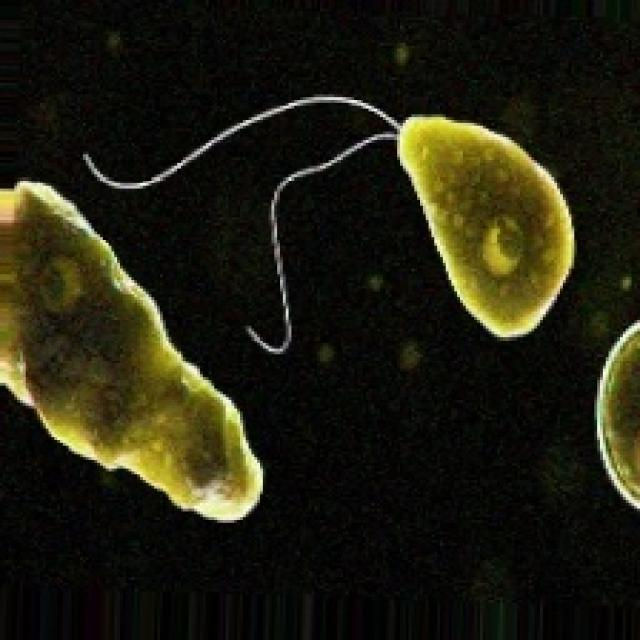Amoeba: (0, 174, 266, 523), (394, 109, 574, 340)
